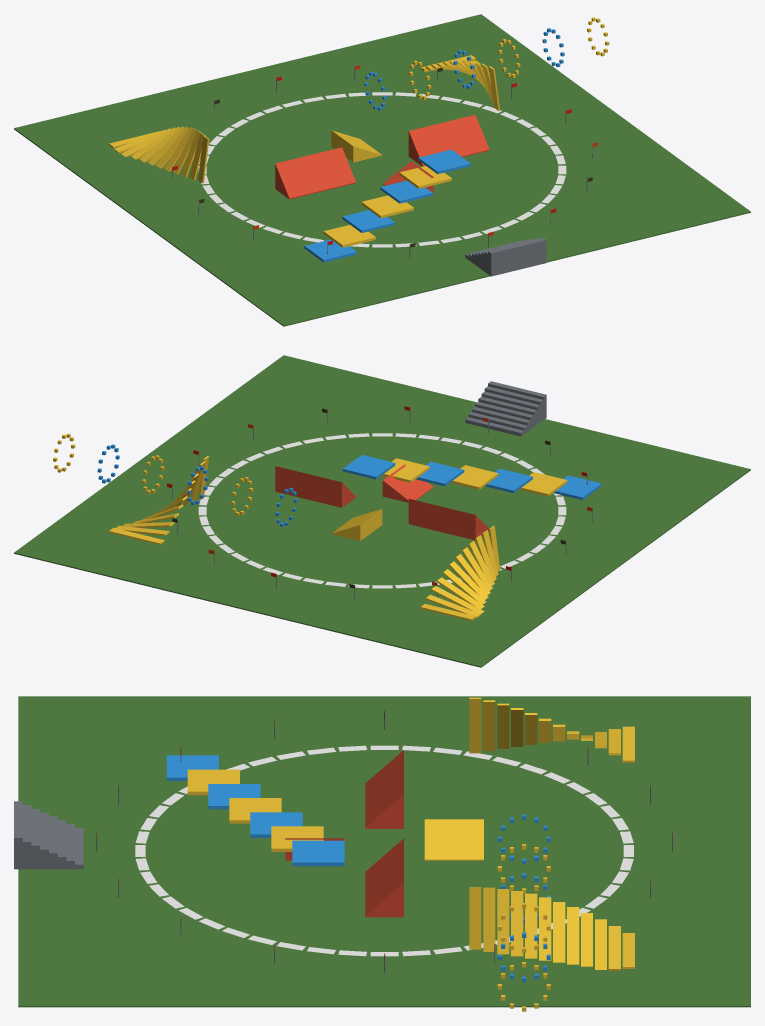
The model's file is map_indian_bike_stunt.glb.
The picture shows the model from 3 angles, top to bottom: view 1: azimuth 30°, elevation 25°; view 2: azimuth 150°, elevation 25°; view 3: azimuth 270°, elevation 25°; orthographic projection. The views are drawn at different scales.
Parts seen in each view (by area): view 1: ground; view 2: ground; view 3: ground.
Boxes of the visible parts, x1,y1,x2,y2 form: ground: (14, 14, 750, 326); ground: (14, 355, 750, 667); ground: (14, 696, 750, 1011).
Bounding box in the file's own units: 451 × 50.2 × 422.
